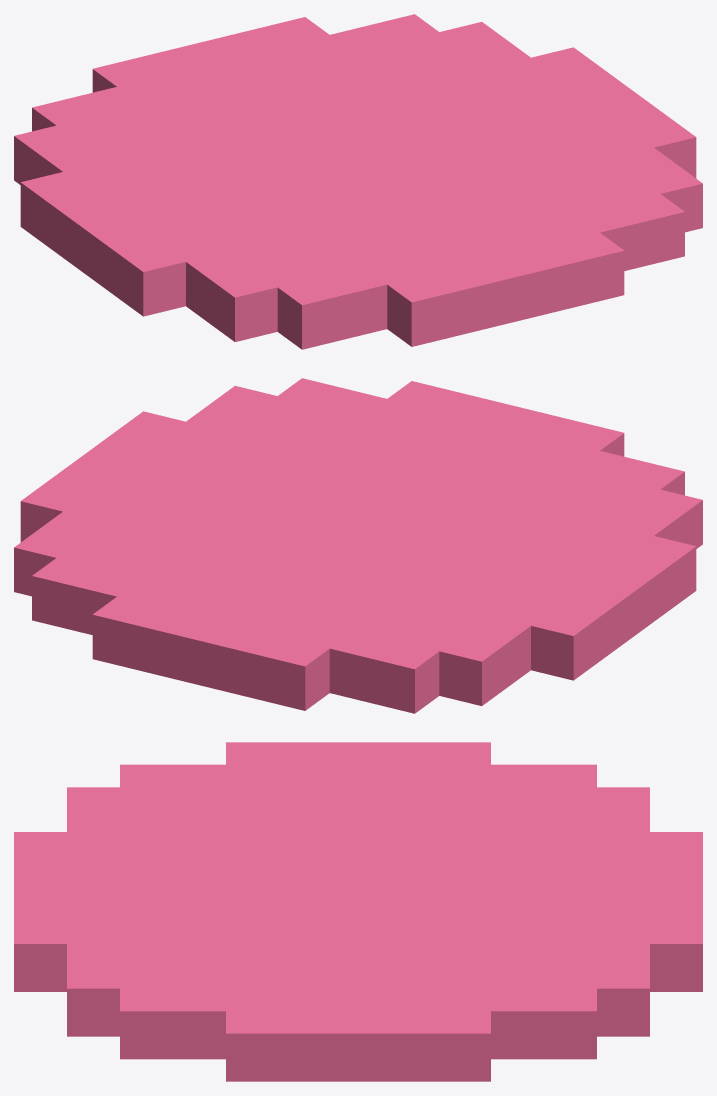
File: splash_c.obj
3 views of the same model, one above another, from view 1: azimuth 30°, elevation 25°; view 2: azimuth 150°, elevation 25°; view 3: azimuth 270°, elevation 25° (orthographic). The views are drawn at different scales.
Size of the model in its own units: 1.3 by 0.1 by 1.3.
Materials: 1 (1 with a texture image).
